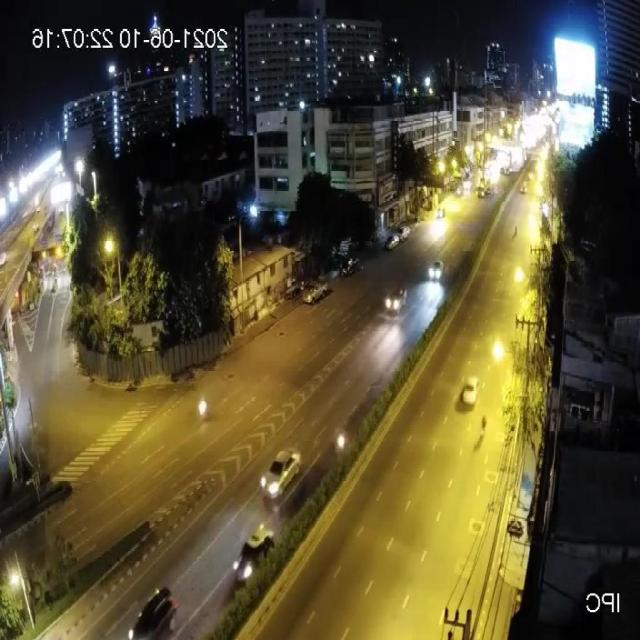Car: (126, 582, 177, 640), (233, 520, 277, 586), (260, 446, 302, 503), (384, 283, 408, 313), (462, 375, 479, 407), (427, 257, 445, 282)
